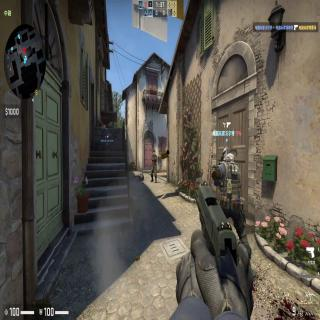T-Body: (150, 150, 157, 183)
T-Head: (153, 150, 155, 155)
